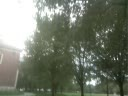window: (12, 3, 119, 96)
